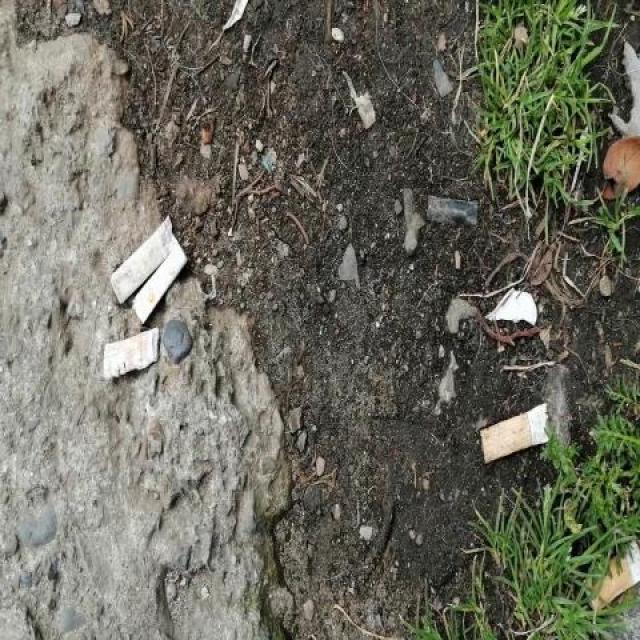non-organic waste: (108, 210, 175, 307), (476, 399, 553, 468), (129, 240, 190, 325), (584, 531, 640, 617), (97, 324, 171, 384)
